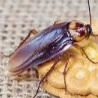cockroach: (8, 18, 92, 75)
